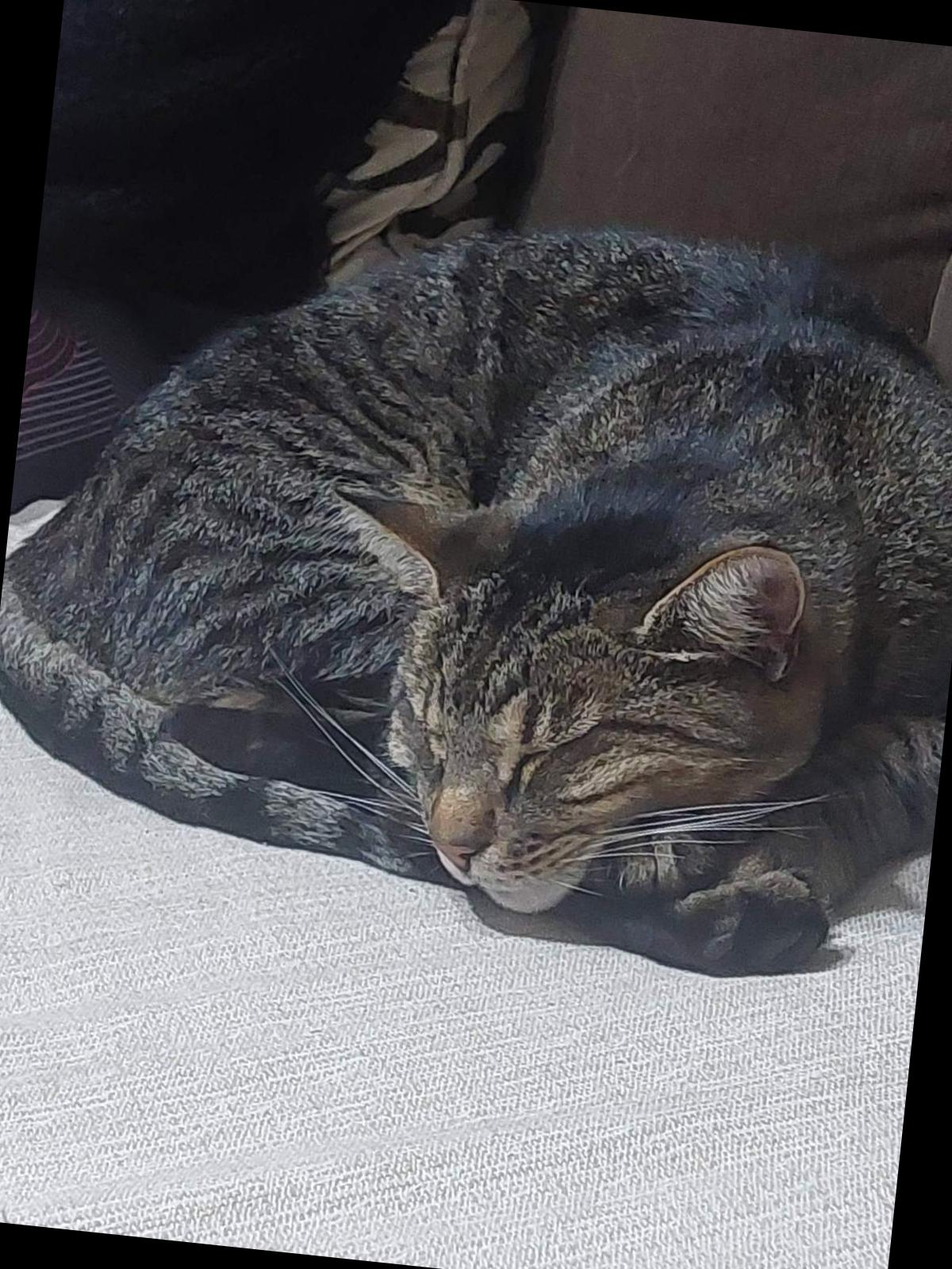macka: (0, 167, 952, 997)
